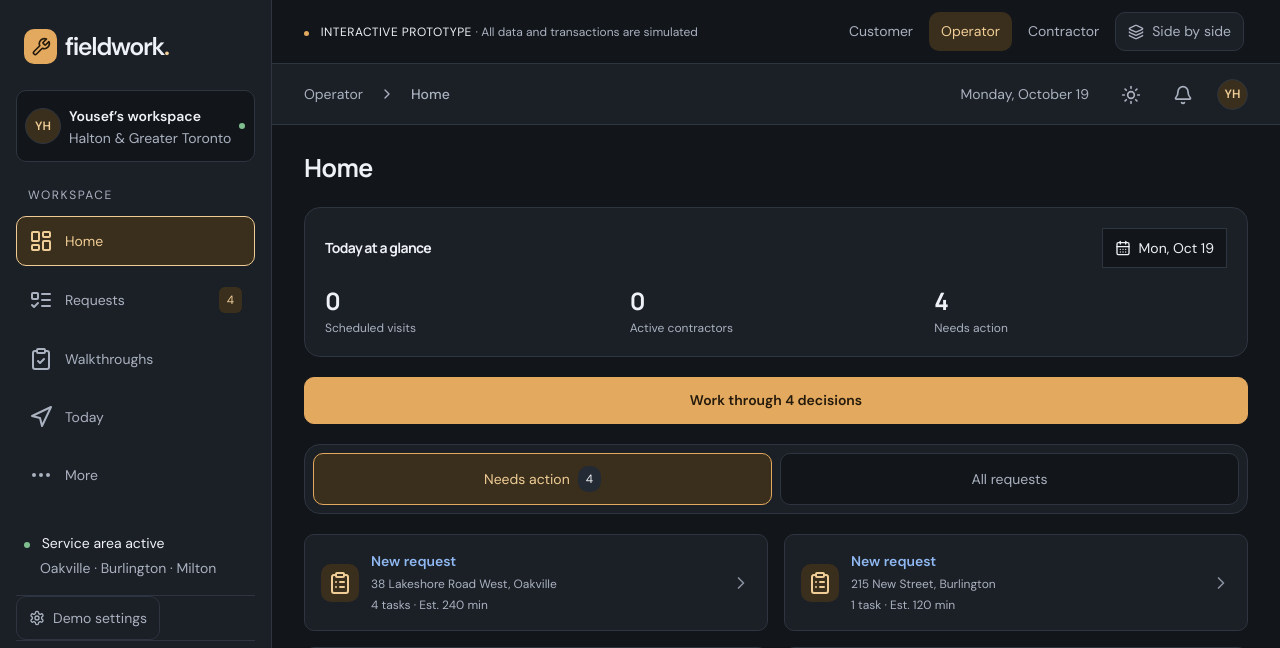
Operator workspace › groups activity under one heading per day, with the time per row
The width and height of the screenshot is (1280, 648).
Click the button "More". click: (136, 475)
box: [16, 450, 255, 500]
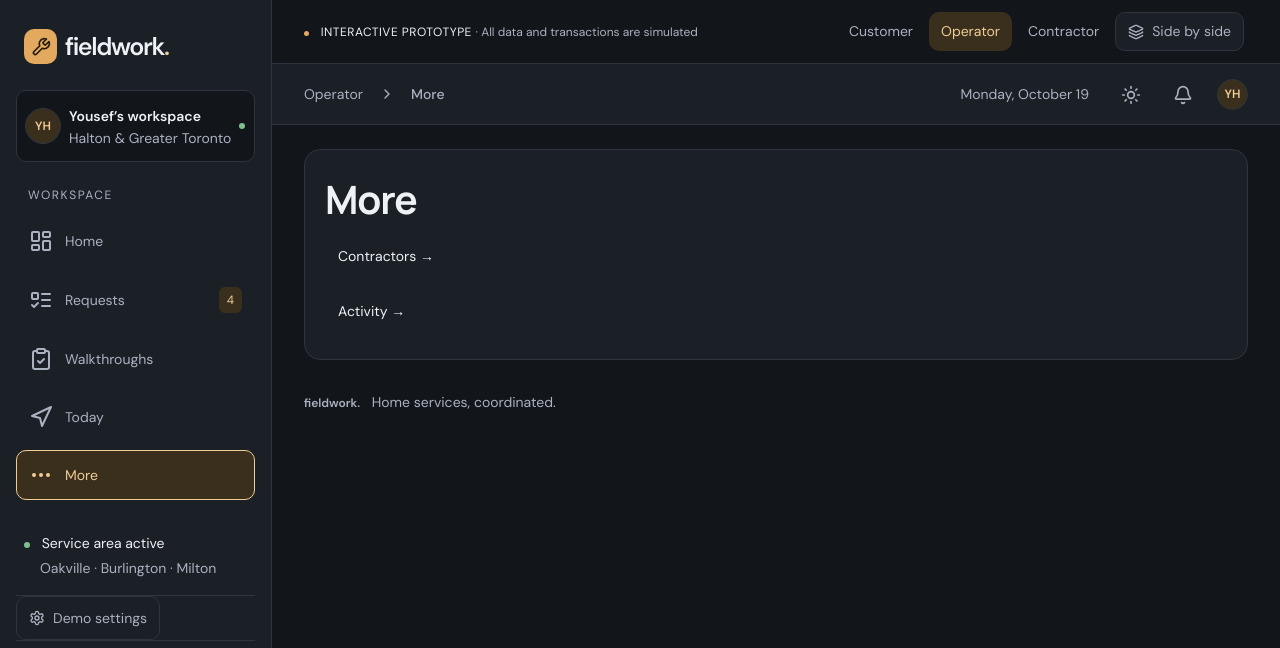
Click the button "Activity →". click: (363, 311)
box: [325, 284, 1227, 339]
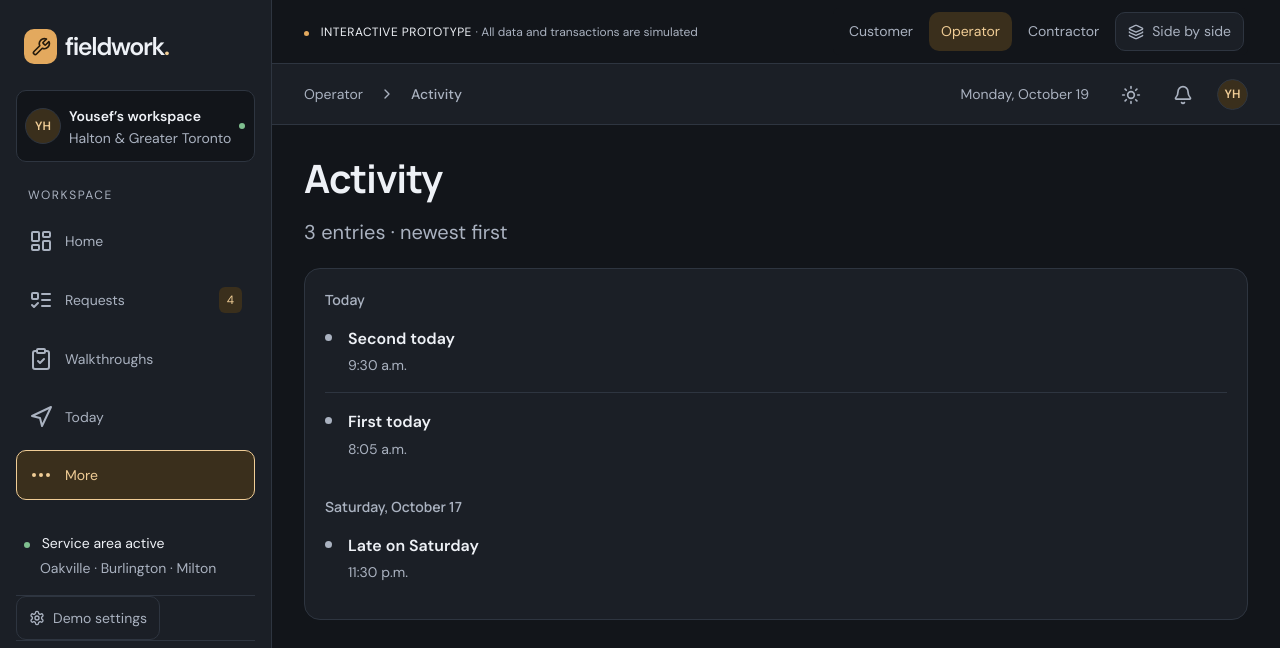
Expected: the headings read "Today", "Saturday, October 17", in this order, [325, 290, 365, 309]; [325, 497, 462, 516]
Expected: the text "3 entries · newest first" is shown, [304, 216, 508, 248]
Expected: the text "9:30 a.m." is shown, [348, 356, 407, 374]
